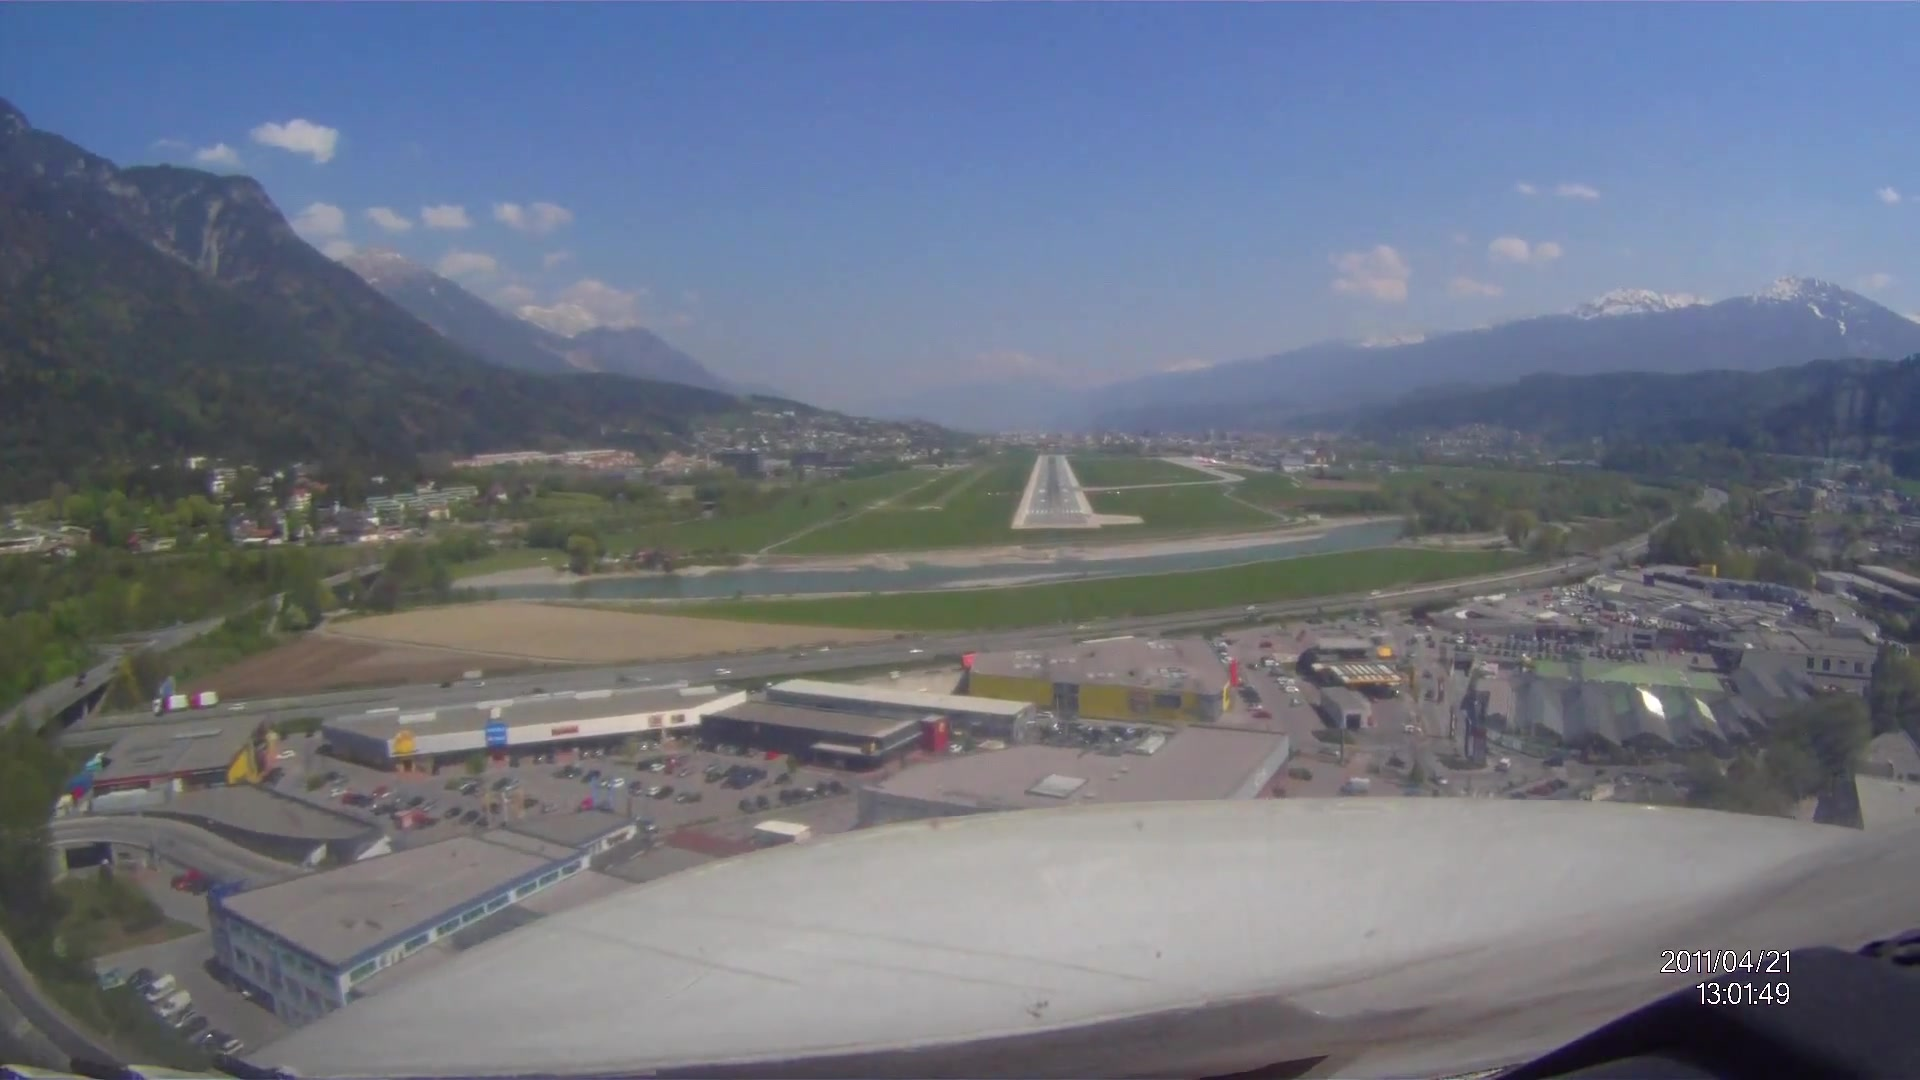entrance: (1021, 506, 1087, 517)
runway: (1017, 456, 1091, 522)
